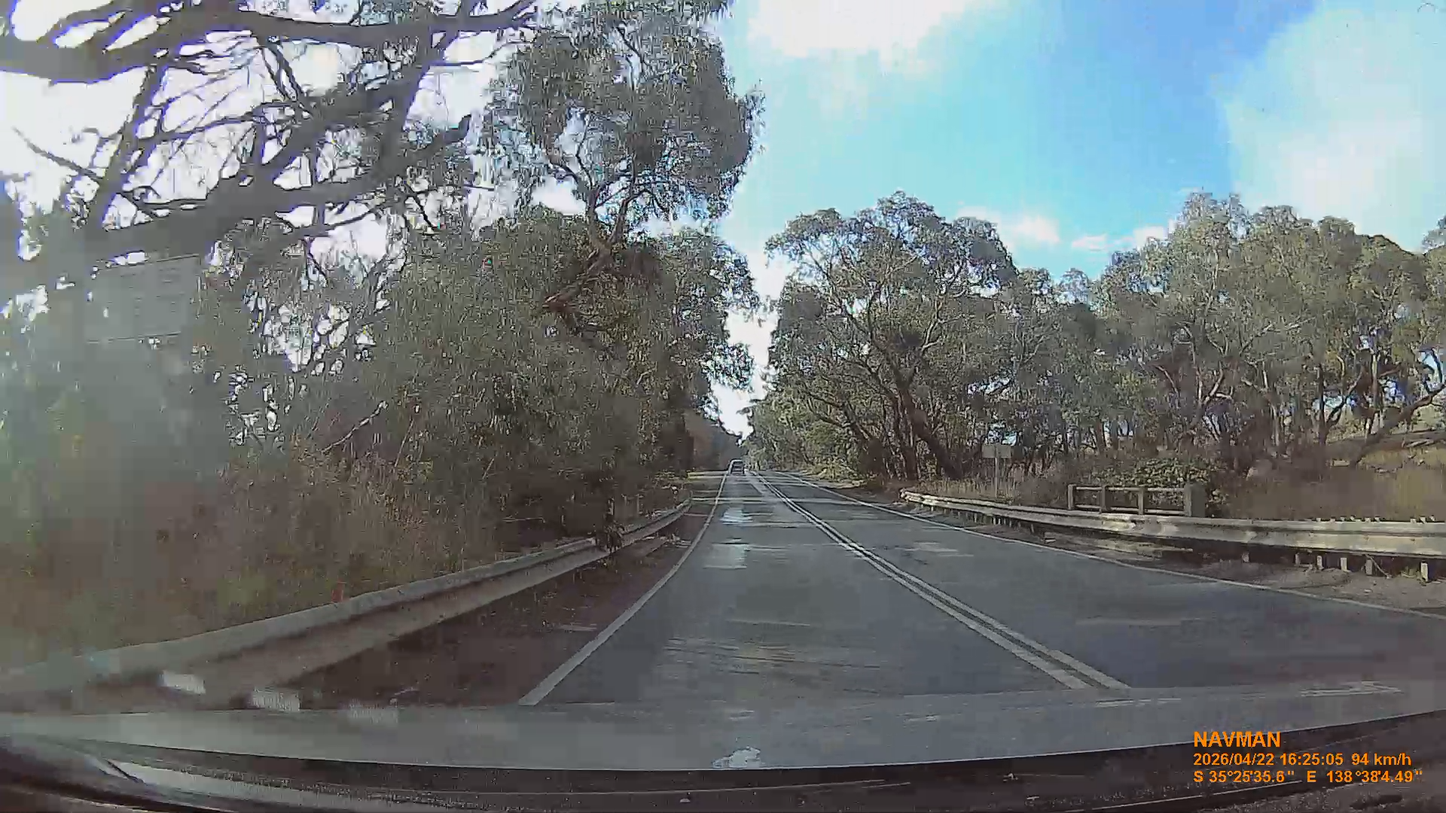fences: (1066, 482, 1191, 516)
road barriers: (0, 540, 606, 709), (903, 492, 1445, 571)
